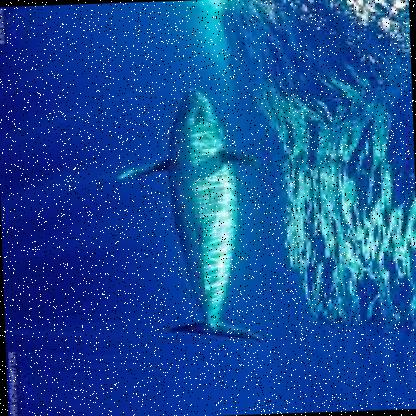blue_whale: (96, 72, 297, 354)
